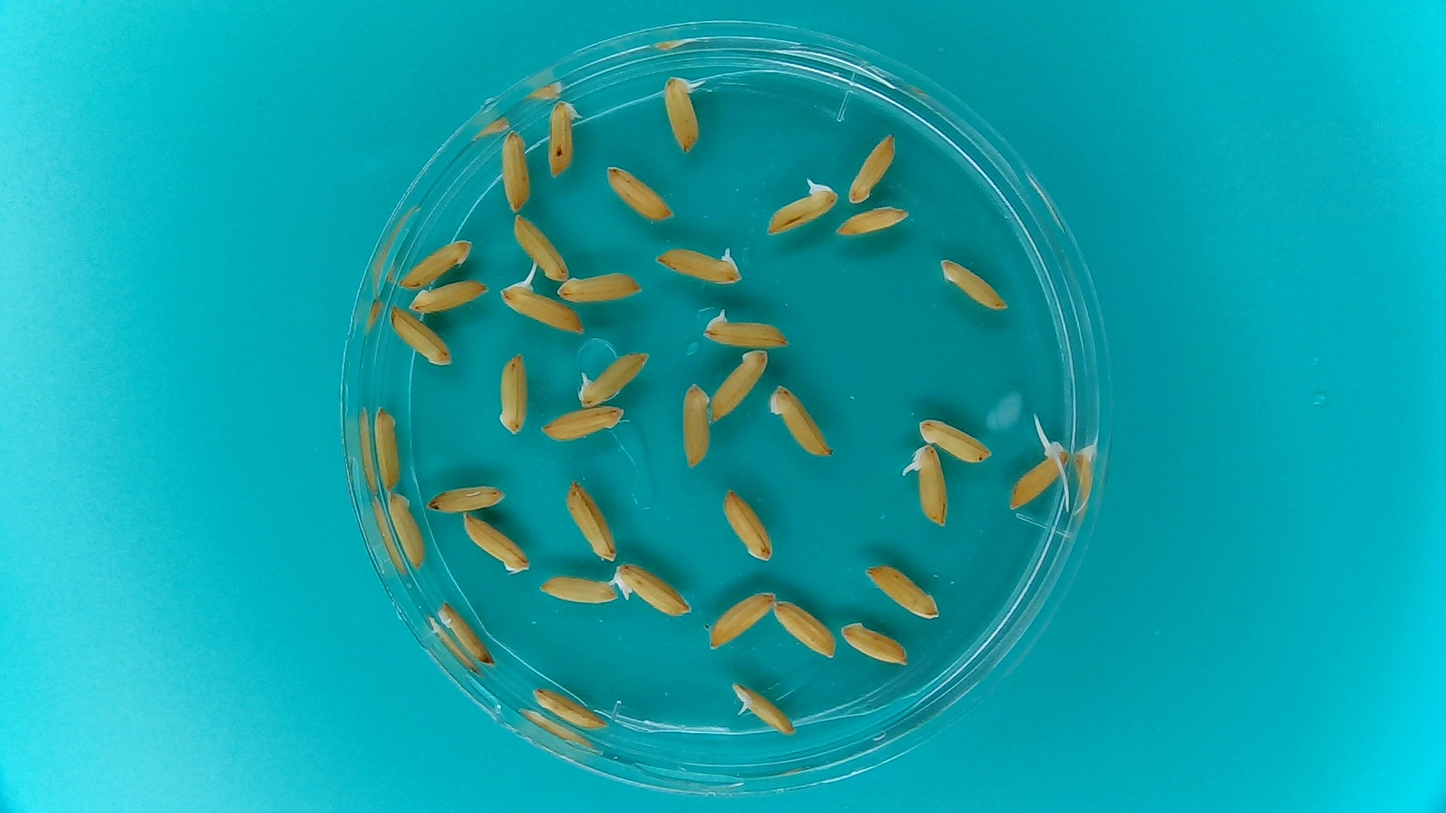no: (767, 382, 835, 461), (458, 510, 532, 576), (563, 477, 618, 565), (863, 561, 942, 621), (709, 348, 770, 424), (703, 588, 776, 651), (602, 163, 677, 224), (386, 303, 455, 368), (508, 214, 572, 283), (434, 598, 496, 669), (721, 484, 776, 564), (769, 597, 839, 659), (938, 255, 1011, 312), (396, 236, 474, 289), (529, 683, 609, 731), (916, 416, 993, 464), (538, 401, 627, 442), (385, 489, 428, 572), (847, 131, 896, 203), (538, 574, 620, 617), (838, 620, 911, 668), (554, 269, 644, 306), (407, 276, 490, 316), (494, 347, 529, 436), (680, 380, 712, 470), (372, 403, 404, 493), (499, 129, 532, 215), (833, 203, 912, 238), (425, 480, 508, 513)
yes: (572, 346, 652, 409), (499, 279, 585, 336), (762, 174, 840, 236), (611, 560, 694, 618), (1009, 442, 1074, 513), (900, 443, 950, 530), (650, 242, 745, 287), (660, 72, 709, 157), (699, 306, 792, 350), (728, 678, 797, 737), (546, 96, 591, 178)
